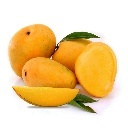mango: (52, 36, 109, 85), (7, 24, 57, 79), (21, 56, 77, 93)
